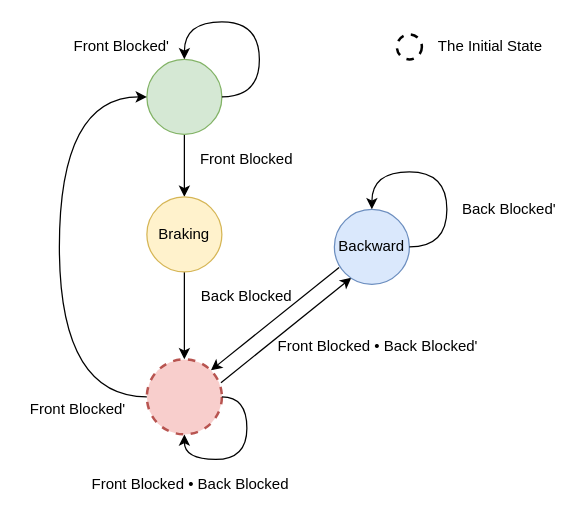
Some shapes in this 580 by 519 pixel diagram are drawn without their labels. The centre of each missing label's shape, as x and y in pixels:
"Forward" goes at point 184,96.
"Stop" goes at point 183,396.
